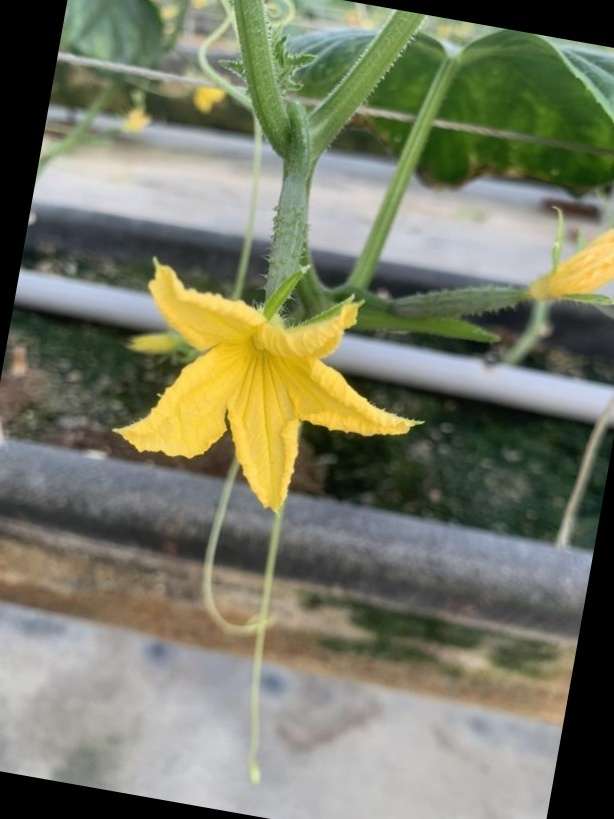flowering: (120, 158, 427, 511)
